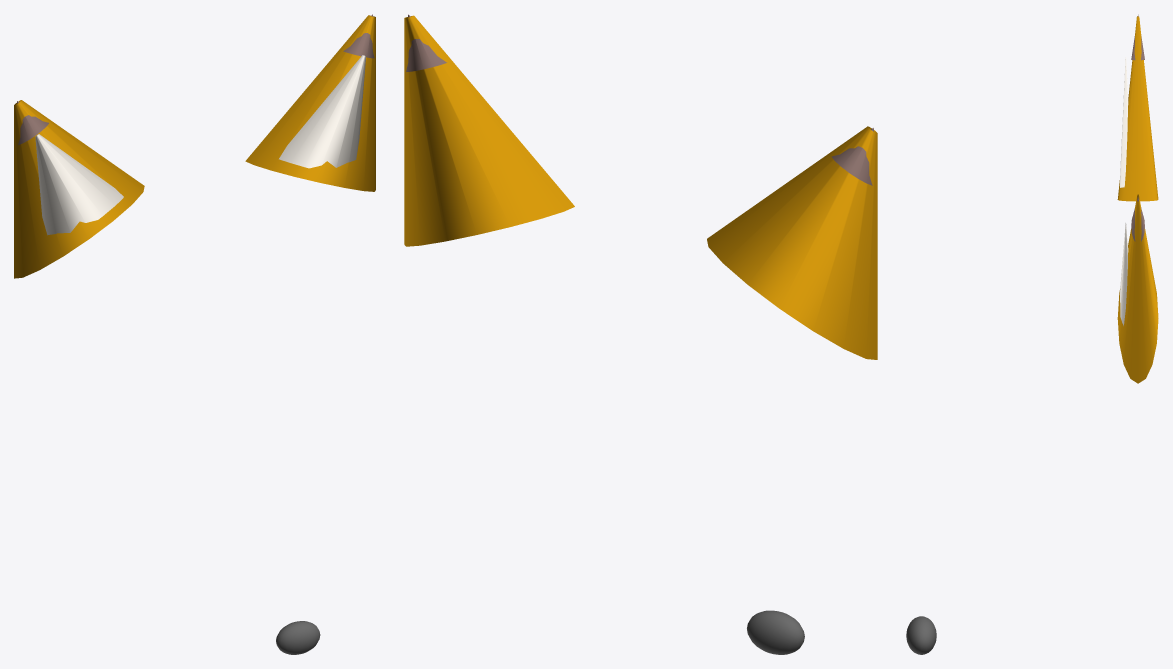
File: fox.glb
The picture shows the model from 3 angles, left to right: view 1: azimuth 30°, elevation 25°; view 2: azimuth 150°, elevation 25°; view 3: azimuth 270°, elevation 25°; orthographic projection. The views are drawn at different scales.
Visible parts, largest first — view 1: ears, ears_inner, nose, ear_tips; view 2: ears, nose, ear_tips; view 3: ears, ears_inner, nose.
Part boxes in pixels (x1=…): ears: x1=14, y1=15, x2=375, y2=278; ears_inner: x1=35, y1=55, x2=366, y2=235; nose: x1=276, y1=621, x2=320, y2=654; ear_tips: x1=17, y1=14, x2=374, y2=145; ears: x1=404, y1=15, x2=877, y2=359; nose: x1=747, y1=610, x2=804, y2=654; ear_tips: x1=406, y1=14, x2=873, y2=185; ears: x1=1117, y1=16, x2=1158, y2=383; ears_inner: x1=1120, y1=57, x2=1128, y2=325; nose: x1=906, y1=616, x2=936, y2=654.
Size of the model in its own units: 1.72 by 2.37 by 0.9891.
